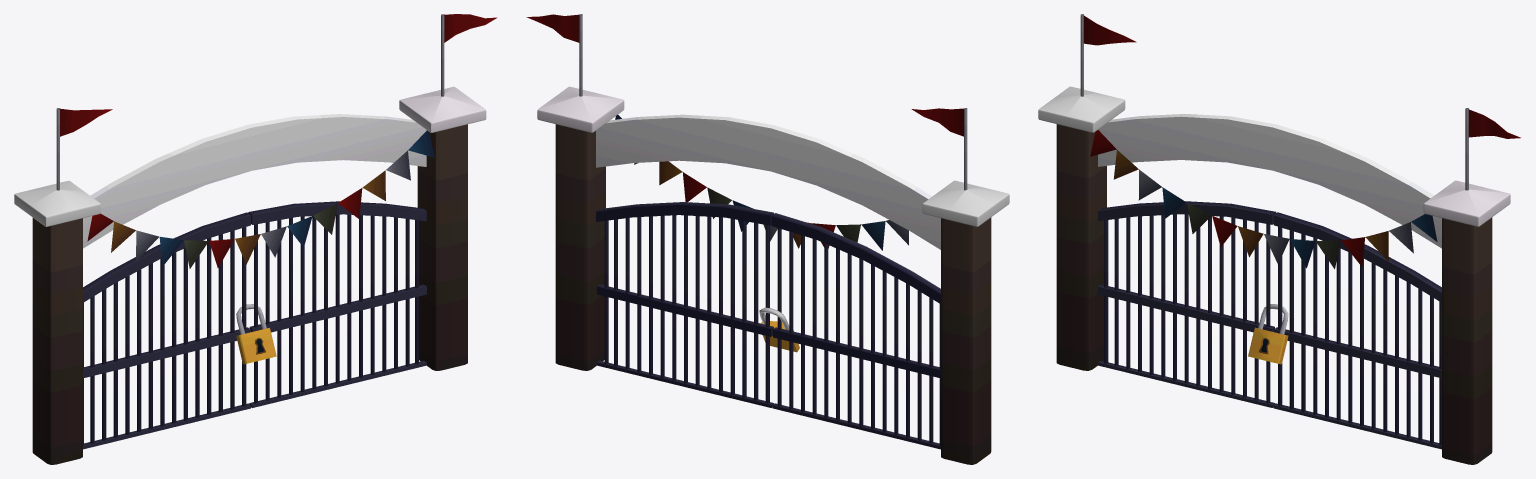
File: SM_Carnival_Gate (1).fbx
3 views of the same model, side by side, from view 1: azimuth 30°, elevation 25°; view 2: azimuth 150°, elevation 25°; view 3: azimuth 330°, elevation 25° (orthographic).
Visible parts, largest first — view 1: SM_Carnival_Gate_Export; view 2: SM_Carnival_Gate_Export; view 3: SM_Carnival_Gate_Export.
Part boxes in pixels (x1=…): SM_Carnival_Gate_Export: x1=14, y1=14, x2=497, y2=464; SM_Carnival_Gate_Export: x1=526, y1=14, x2=1009, y2=464; SM_Carnival_Gate_Export: x1=1038, y1=14, x2=1520, y2=464.
Size of the model in its own units: 668 by 471 by 80.
